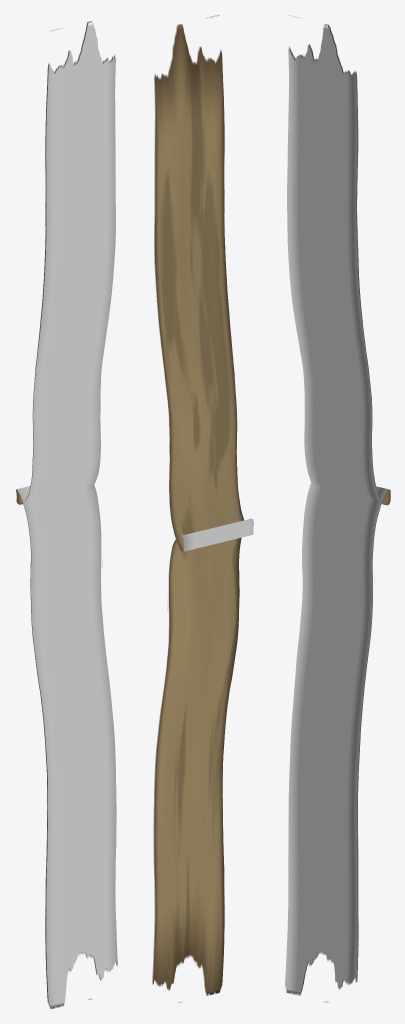
File: map_paper.glb
3 renders of one model, left to right at view 1: azimuth 30°, elevation 25°; view 2: azimuth 210°, elevation 25°; view 3: azimuth 330°, elevation 25°, orthographic.
Parts seen in each view (by area): view 1: OldMapBaked; view 2: OldMapBaked; view 3: OldMapBaked.
Part boxes in pixels (bbox=[...]): OldMapBaked: bbox=[16, 21, 117, 1009]; OldMapBaked: bbox=[152, 14, 253, 1002]; OldMapBaked: bbox=[285, 14, 390, 1002].
Bounding box in the file's own units: 0.6 × 7.77 × 0.4975.
2 materials, 2 textured.
